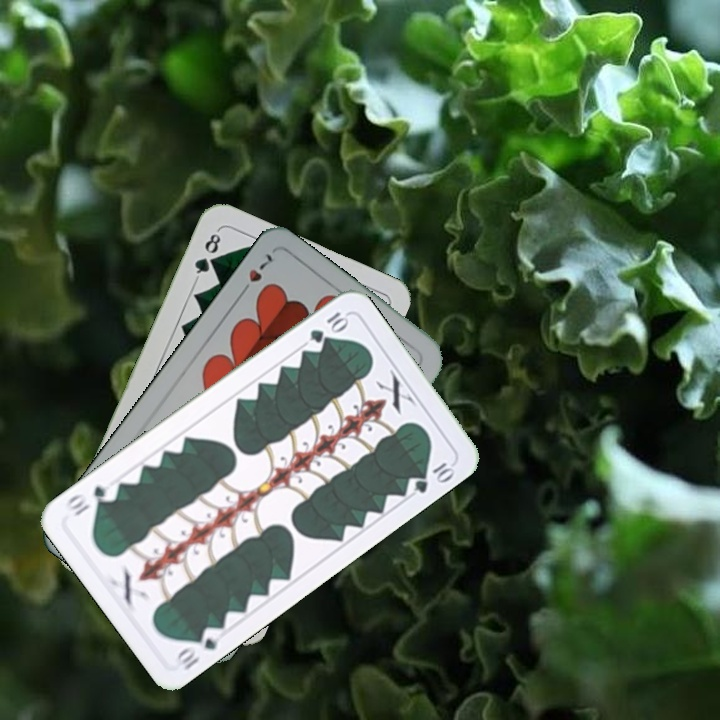G10: (170, 622, 226, 673), (305, 307, 351, 346)
G8: (190, 226, 224, 282)
H7: (235, 249, 276, 299)
